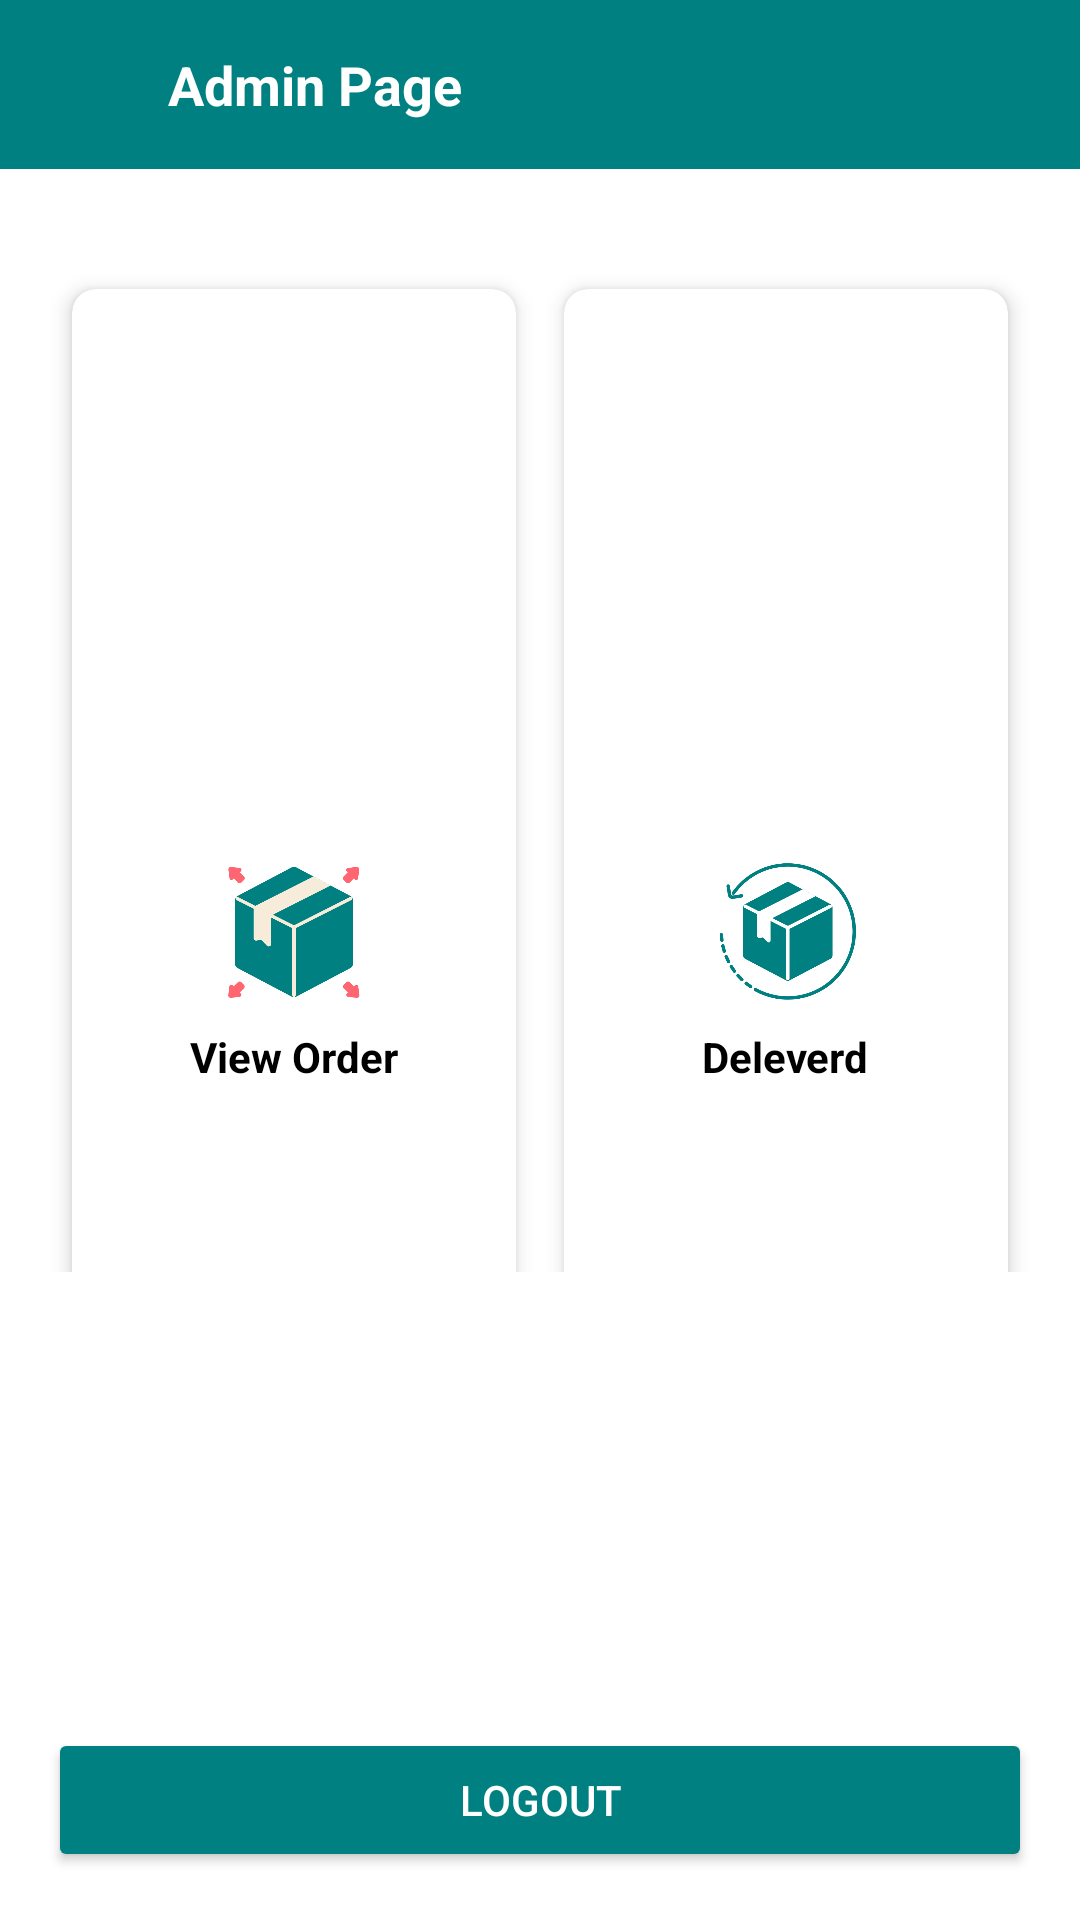

Point at icon controls on the screen. Image size 1080x1920, points as point (x, y).
Productview Icon: point (294, 932)
Update Icon: point (788, 931)
